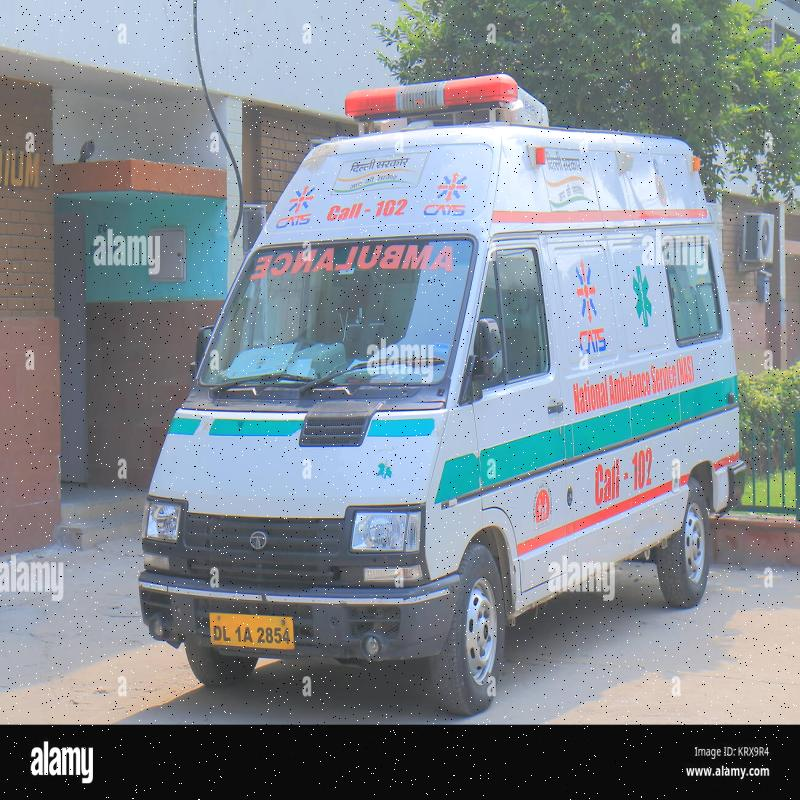AmbulanceSiren: (317, 65, 515, 124)
ambulance: (120, 54, 745, 724)
